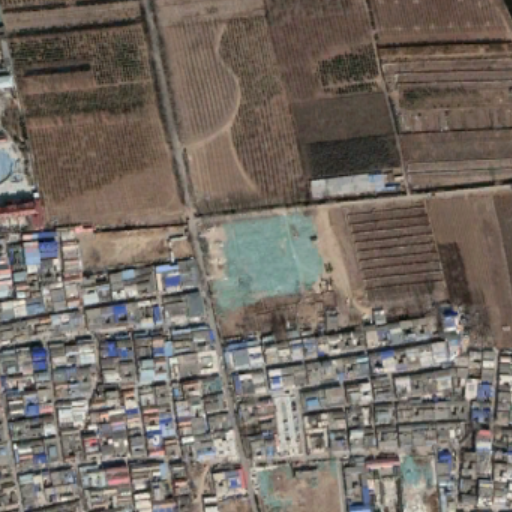cw: (207, 211, 326, 310)
